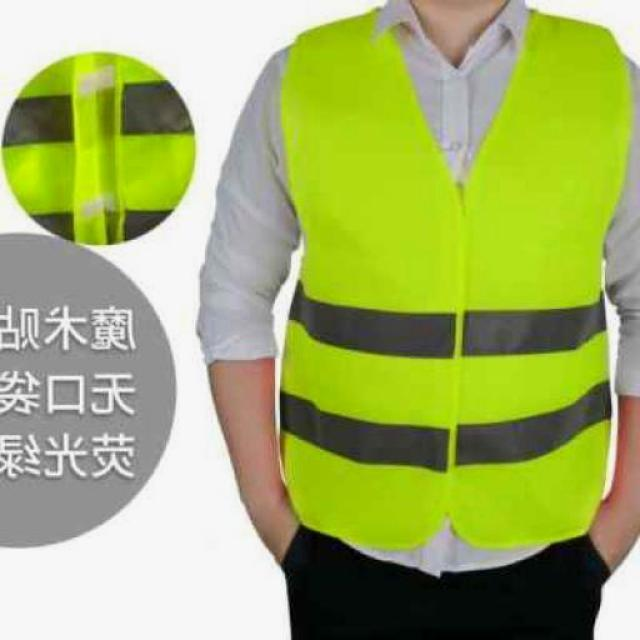vest: (274, 7, 628, 565)
